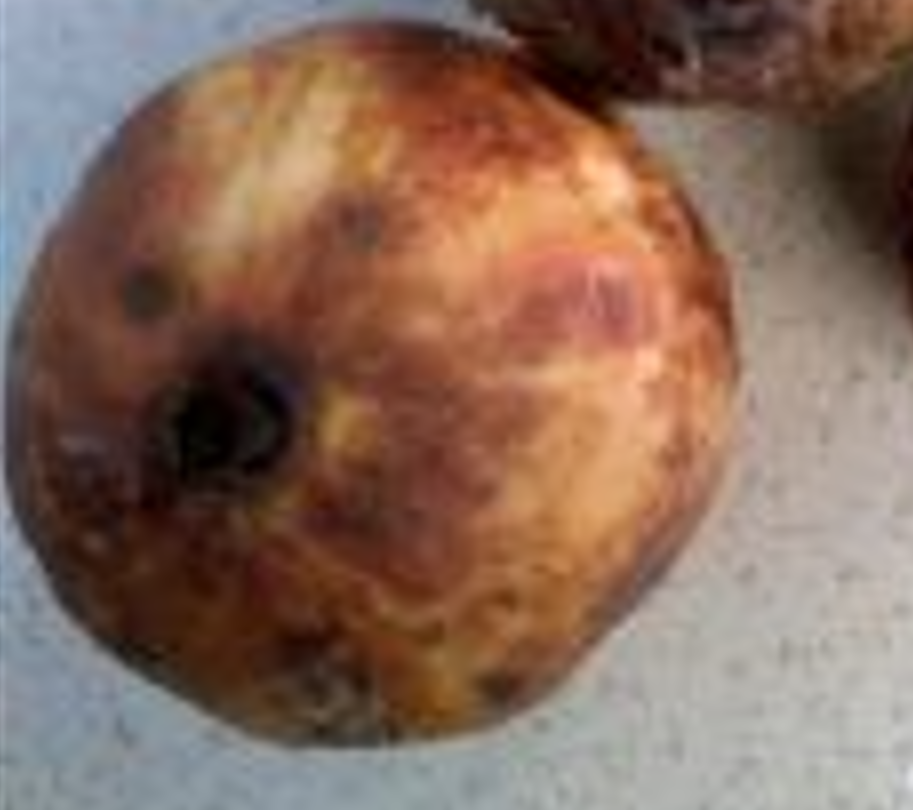guava_C: (1, 21, 749, 751)
